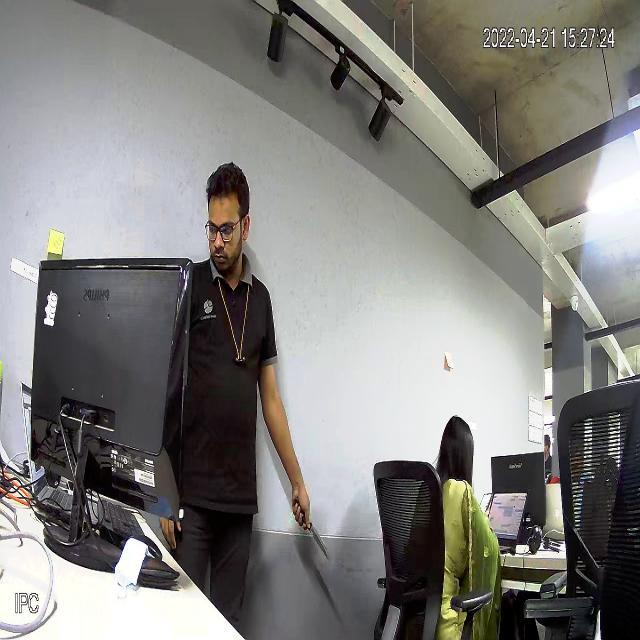Knife: (281, 498, 347, 562)
